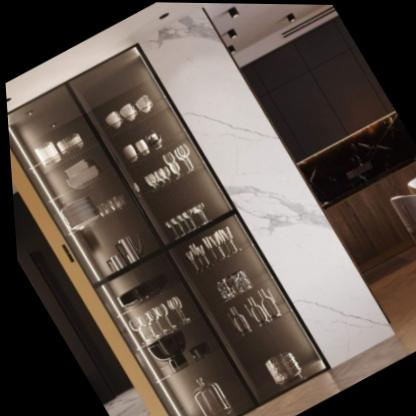Ceramic floor: (98, 389, 146, 416)
Cupboard: (6, 42, 326, 416)
Wooden floor: (236, 256, 416, 416)
